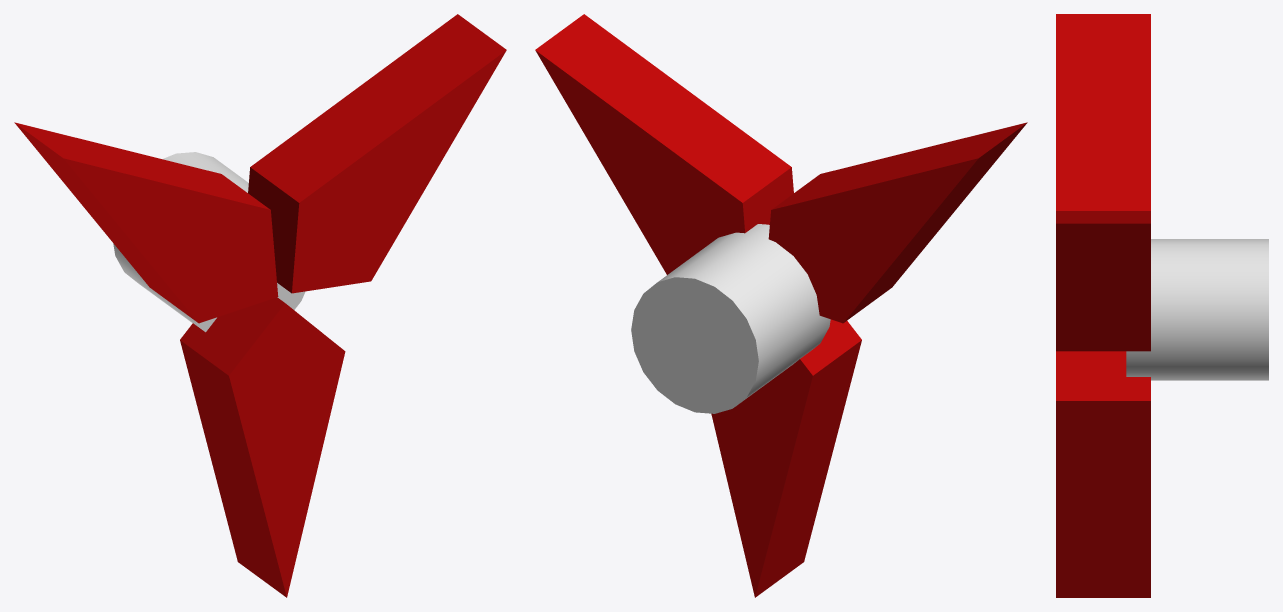
Rendered from Player.fbx.
The picture shows the model from 3 angles, left to right: view 1: azimuth 30°, elevation 25°; view 2: azimuth 150°, elevation 25°; view 3: azimuth 270°, elevation 25°; orthographic projection. The views are drawn at different scales.
Parts seen in each view (by area): view 1: pCube10, pCube9, pCube11, pCylinder1; view 2: pCube10, pCylinder1, pCube11, pCube9; view 3: pCube9, pCube11, pCylinder1, pCube10.
Boxes of the visible parts, x1,y1,x2,y2 form: pCube10: (248, 14, 506, 293); pCube9: (180, 297, 345, 597); pCube11: (14, 122, 278, 323); pCylinder1: (113, 152, 305, 332); pCube10: (535, 14, 793, 274); pCylinder1: (631, 224, 830, 413); pCube11: (768, 122, 1027, 323); pCube9: (711, 319, 861, 597); pCube9: (1056, 351, 1150, 597); pCube11: (1056, 14, 1150, 223); pCylinder1: (1126, 239, 1268, 380); pCube10: (1056, 223, 1150, 351).
Bounding box in the file's own units: 5.22 × 5.55 × 2.24.
